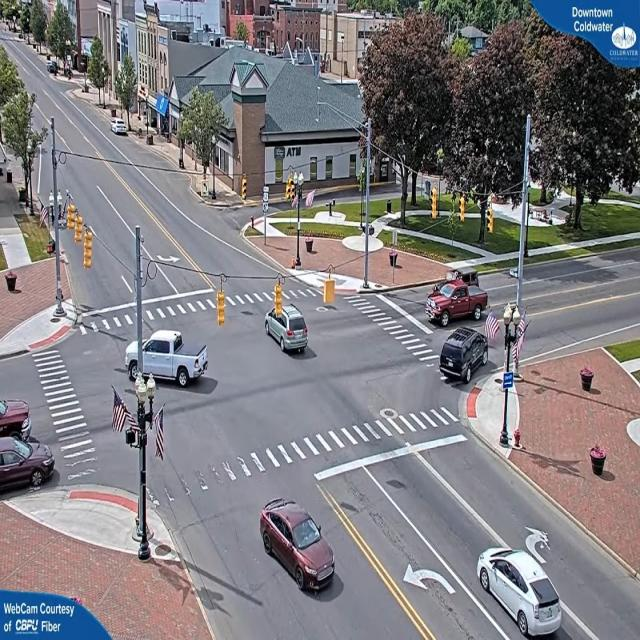car: (476, 546, 565, 638), (260, 503, 336, 596), (127, 330, 211, 390), (0, 432, 55, 494), (438, 329, 490, 386), (426, 278, 486, 324), (264, 305, 310, 357), (2, 396, 34, 437), (112, 122, 130, 138)
